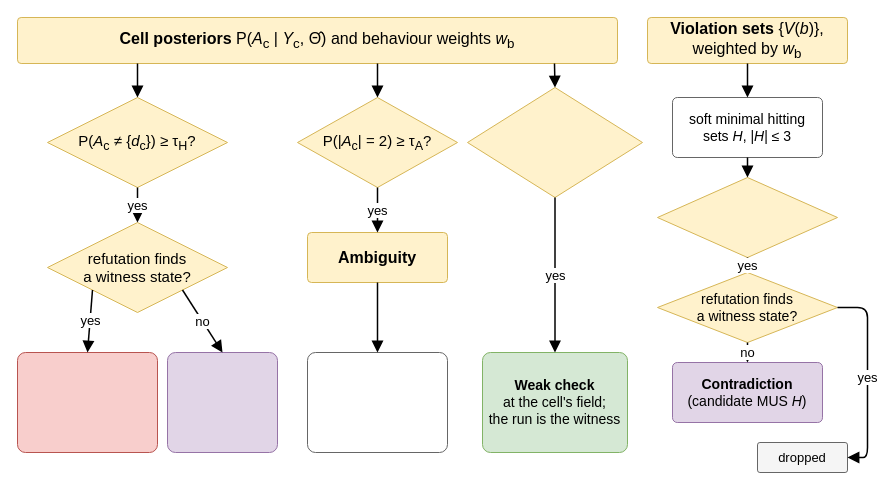
Image size: 896x490. Some labels were removed from this diagram. The shapes that lost their labels are listed below. From the top down, each one's box as (x1, y1, x2, y2) in pixels, then its label:
(466, 86, 642, 198): MAP { x } ≥ τ W , and an acted run reads y ≠ x yet satisfies 𝒞?
(656, 176, 838, 258): | H | ≥ 2 and no run satisfies H ?
(16, 352, 158, 452): Hidden requirement subtype from the MAP set
(166, 352, 278, 452): Contradiction of size one
(306, 352, 448, 452): ddmin over sentences of 𝒯 → 1-minimal set
